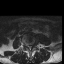CCS_normal: (29, 44, 31, 51)
LFS_severe_stenosis: (32, 43, 34, 48)
LLS_severe_stenosis: (31, 44, 32, 49)
RFS_severe_stenosis: (26, 43, 27, 47)
RLS_severe_stenosis: (27, 44, 29, 49)
